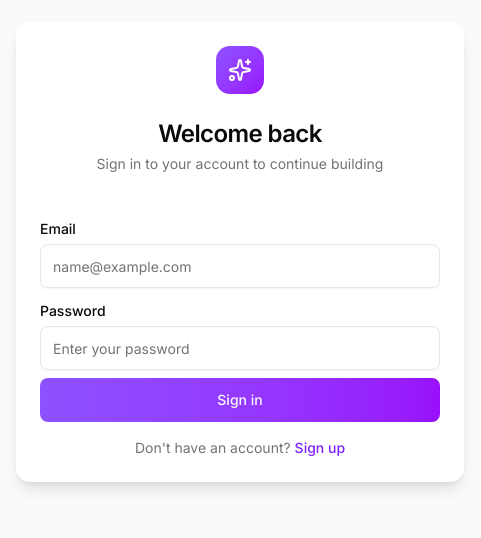
Scenario: LoginPage › shows error message on failed login
The image size is (481, 538).
Type "test@example.com" into the field labelled "Email". click: (240, 266)
box: [40, 244, 440, 288]
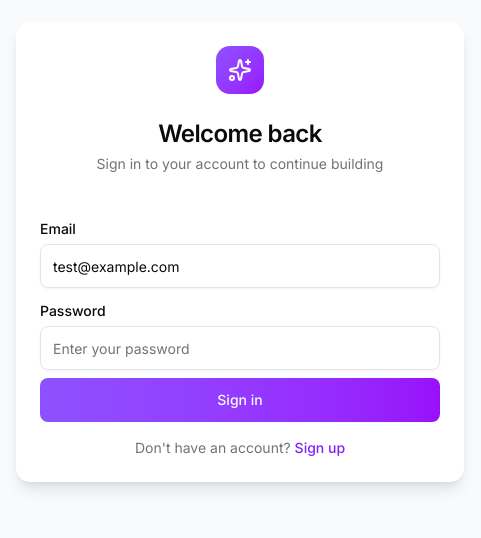
Type "wrongpassword" into the password field labelled "Password". click: (240, 348)
box: [40, 326, 440, 370]
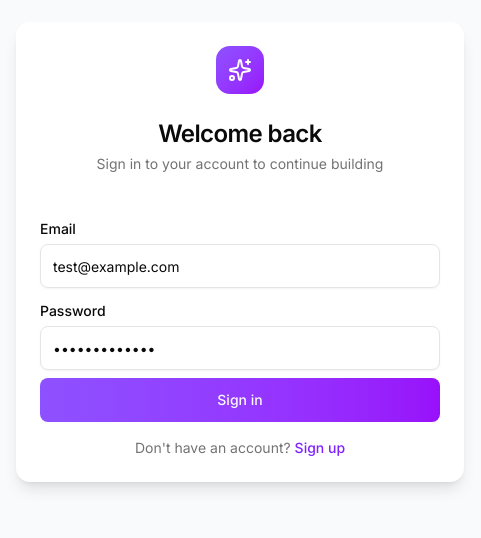
Click the button "Sign in". click: (240, 400)
box: [40, 378, 440, 422]
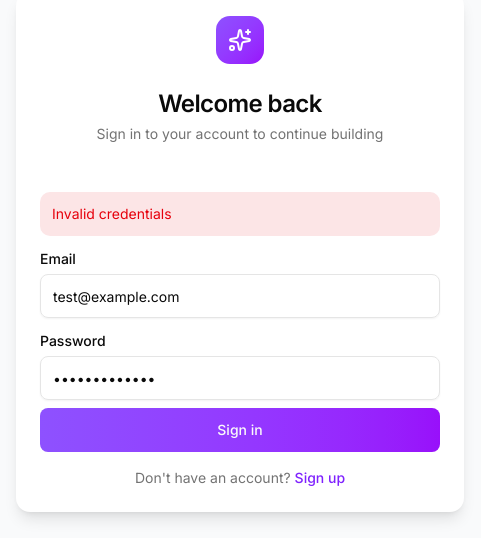
Result: the text "Invalid credentials" is shown at [40, 192, 440, 236]
